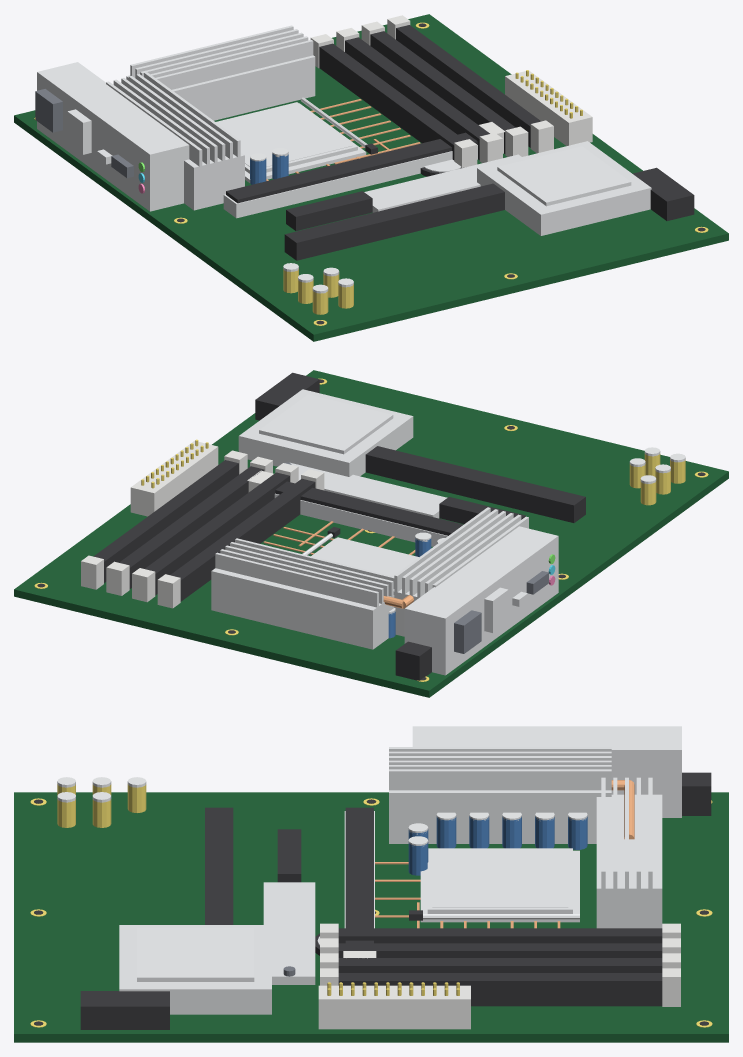
File: motherboard.glb
3 renders of one model, top to bottom at view 1: azimuth 30°, elevation 25°; view 2: azimuth 150°, elevation 25°; view 3: azimuth 270°, elevation 25°, orthographic. The views are drawn at different scales.
Visible parts, largest first — view 1: PCB_Substrate, Rear_IO_Shield, PCIe_x16_2_Body, Chipset_Heatsink, VRM_Top_Base, Chipset_Accent_Plate, CPU_Load_Plate, RAM_Slot_0, PCIe_x16_1_Body, RAM_Slot_3, PCIe_x16_1_Armor, RAM_Slot_1 (+25 smaller); view 2: PCB_Substrate, Rear_IO_Shield, VRM_Top_Base, PCIe_x16_2_Body, Chipset_Heatsink, Chipset_Accent_Plate, RAM_Slot_0, RAM_Slot_3, RAM_Slot_1, RAM_Slot_2, ATX_24Pin_Housing, M2_Heatshield (+23 smaller); view 3: PCB_Substrate, Rear_IO_Shield, RAM_Slot_3, CPU_Load_Plate, VRM_Left_Base, VRM_Top_Base, ATX_24Pin_Housing, Chipset_Accent_Plate, Chipset_Heatsink, RAM_Slot_0, RAM_Slot_2, VRM_Left_Fin_5 (+28 smaller).
Boxes of the visible parts, left/top/right/bottom form: PCB_Substrate: left=14, top=14, right=728, bottom=341; Rear_IO_Shield: left=37, top=62, right=189, bottom=211; PCIe_x16_2_Body: left=284, top=183, right=504, bottom=260; Chipset_Heatsink: left=477, top=141, right=651, bottom=235; VRM_Top_Base: left=126, top=55, right=315, bottom=120; Chipset_Accent_Plate: left=497, top=146, right=631, bottom=206; CPU_Load_Plate: left=217, top=104, right=352, bottom=166; RAM_Slot_0: left=319, top=43, right=464, bottom=160; PCIe_x16_1_Body: left=226, top=132, right=477, bottom=203; RAM_Slot_3: left=396, top=25, right=541, bottom=147; PCIe_x16_1_Armor: left=223, top=145, right=477, bottom=218; RAM_Slot_1: left=345, top=37, right=489, bottom=160; PCB_Substrate: left=14, top=370, right=728, bottom=697; Rear_IO_Shield: left=404, top=526, right=558, bottom=675; VRM_Top_Base: left=211, top=568, right=394, bottom=649; PCIe_x16_2_Body: left=365, top=446, right=585, bottom=522; Chipset_Heatsink: left=238, top=389, right=413, bottom=476; Chipset_Accent_Plate: left=259, top=394, right=393, bottom=454; RAM_Slot_0: left=170, top=478, right=315, bottom=601; RAM_Slot_3: left=93, top=460, right=238, bottom=582; RAM_Slot_1: left=145, top=472, right=289, bottom=595; RAM_Slot_2: left=119, top=466, right=264, bottom=588; ATX_24Pin_Housing: left=130, top=440, right=218, bottom=516; M2_Heatshield: left=290, top=462, right=447, bottom=518; PCB_Substrate: left=14, top=792, right=728, bottom=1042; Rear_IO_Shield: left=412, top=726, right=681, bottom=817; RAM_Slot_3: left=338, top=973, right=662, bottom=1006; CPU_Load_Plate: left=432, top=849, right=568, bottom=907; VRM_Left_Base: left=389, top=790, right=611, bottom=843; VRM_Top_Base: left=596, top=794, right=662, bottom=928; ATX_24Pin_Housing: left=318, top=985, right=470, bottom=1029; Chipset_Accent_Plate: left=137, top=928, right=254, bottom=981; Chipset_Heatsink: left=119, top=925, right=271, bottom=1014; RAM_Slot_0: left=338, top=928, right=662, bottom=943; RAM_Slot_2: left=338, top=958, right=662, bottom=972; VRM_Left_Fin_5: left=389, top=769, right=611, bottom=790.
Bounding box in the file's own units: 2.48 × 0.372 × 3.05.
